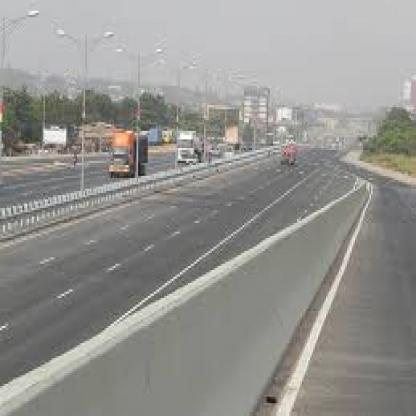car: (101, 117, 148, 180), (176, 126, 197, 178)
